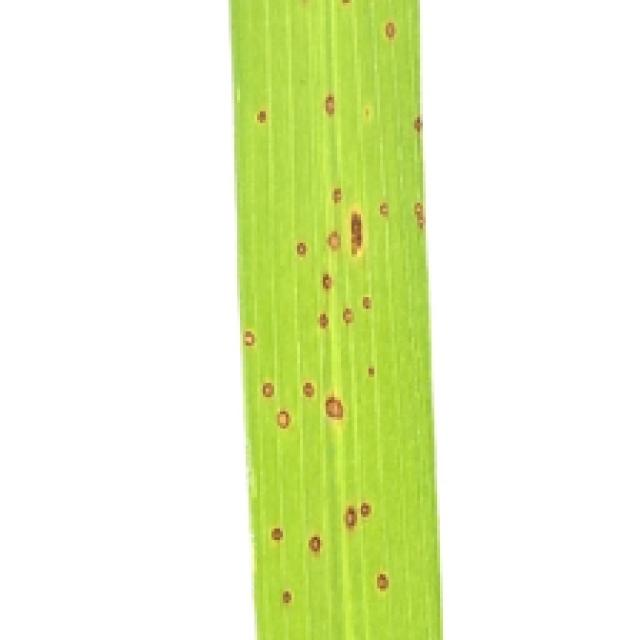Rice___Brown_Spot: (229, 0, 442, 637)
